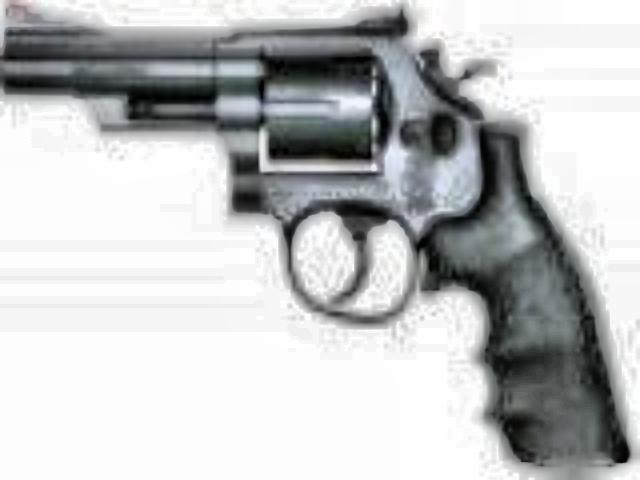pistol: (8, 0, 636, 464)
